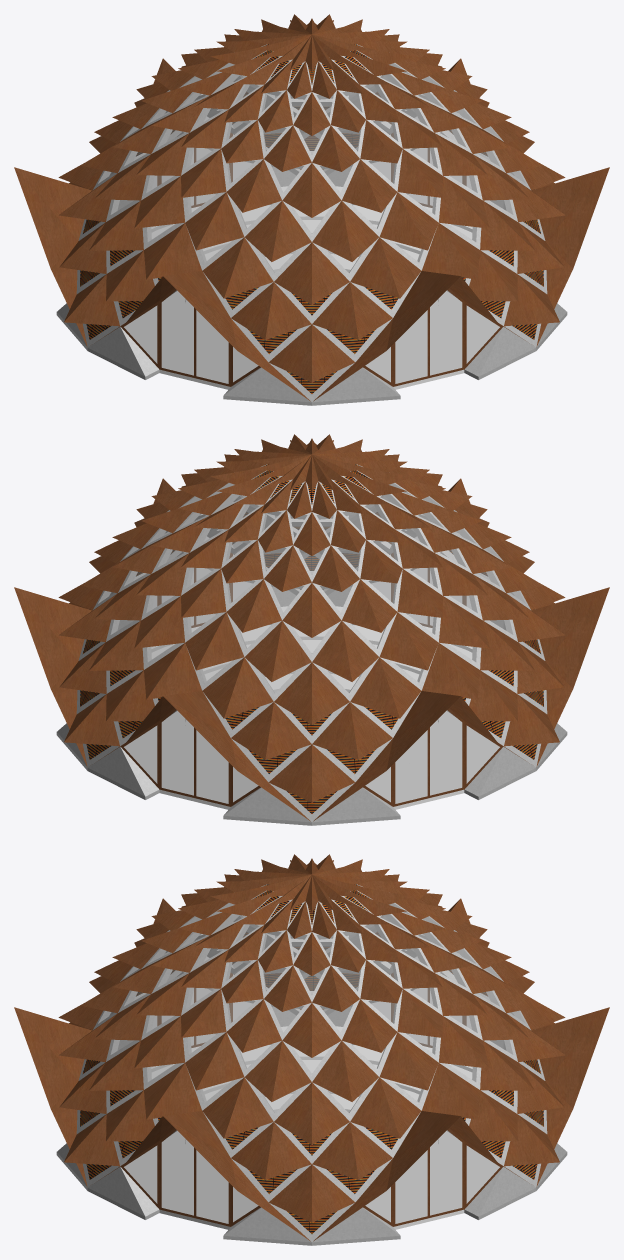
The model's file is pine_cone_meditation_and_yoga_center.glb.
3 views of the same model, one above another, from view 1: azimuth 30°, elevation 25°; view 2: azimuth 150°, elevation 25°; view 3: azimuth 270°, elevation 25° (orthographic).
Visible parts, largest first — view 1: Material2 (×95), Material3 (×4); view 2: Material2 (×95), Material3 (×4); view 3: Material2 (×95), Material3 (×4).
Boxes of the visible parts, left/top/right/bottom form: Material2 (×95): left=14, top=44, right=609, bottom=401; Material3 (×4): left=87, top=327, right=536, bottom=405; Material2 (×95): left=14, top=464, right=609, bottom=821; Material3 (×4): left=87, top=747, right=536, bottom=825; Material2 (×95): left=14, top=884, right=609, bottom=1241; Material3 (×4): left=87, top=1167, right=536, bottom=1245.
Size of the model in its own units: 17.42 by 9.37 by 18.11.
Materials: 7 (3 with a texture image).
